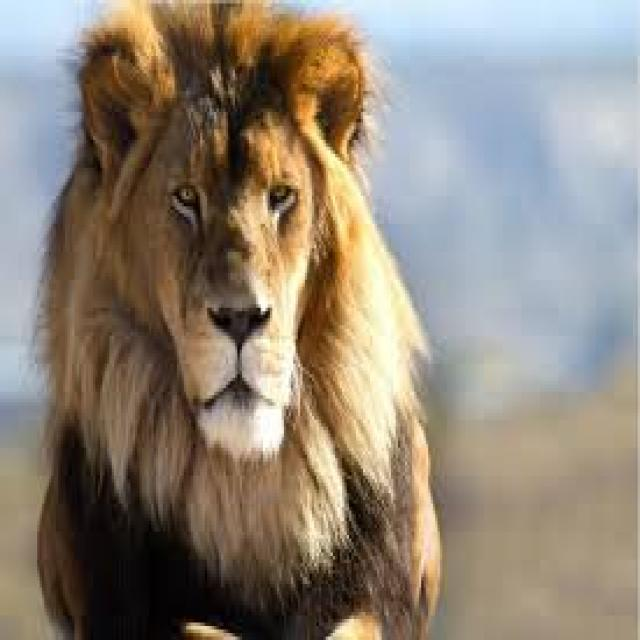Lion: (30, 0, 445, 637)
